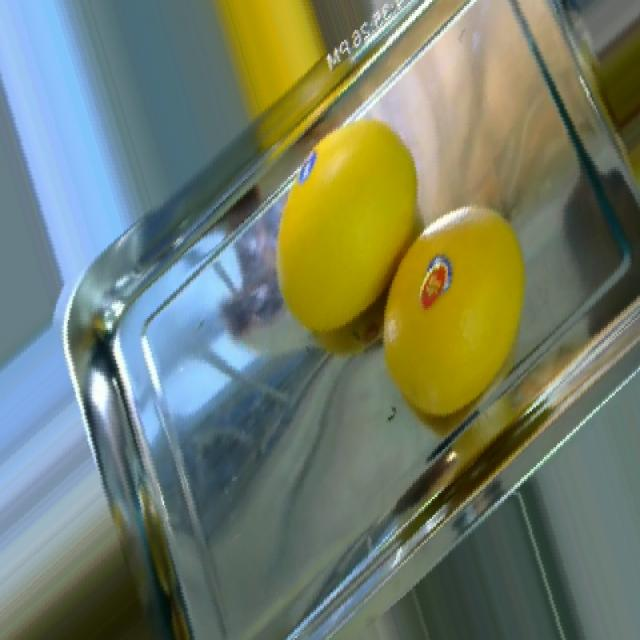Fruit: (250, 157, 427, 380)
